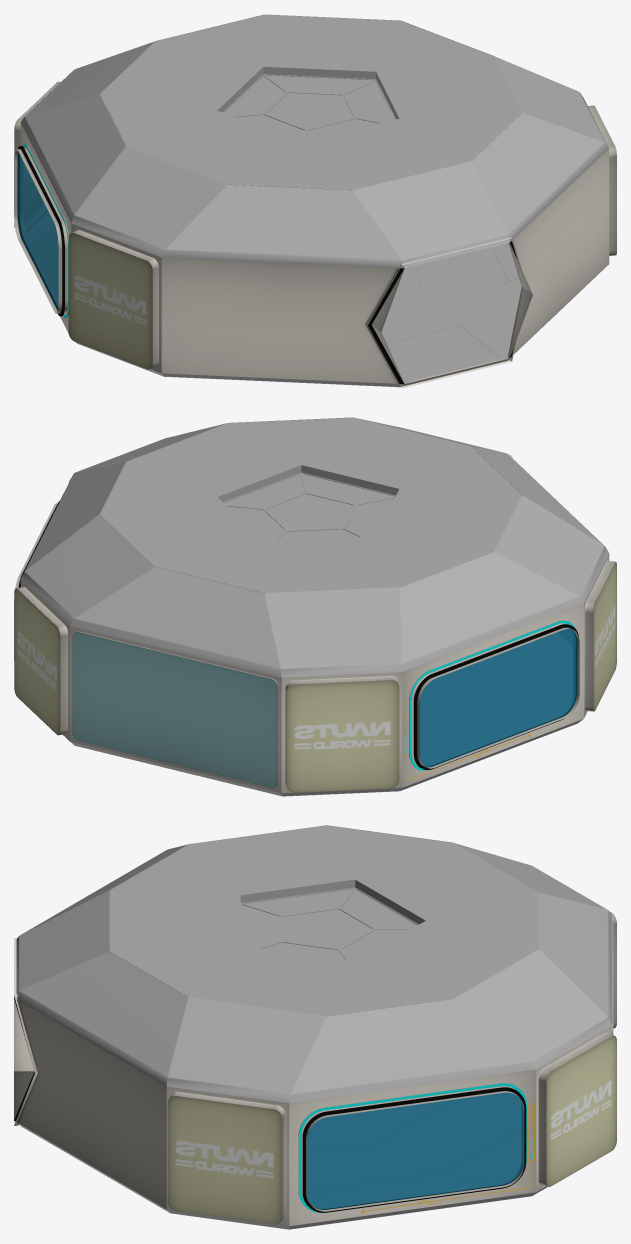
The model's file is Lab_Center_Hall 1.fbx.
3 views of the same model, one above another, from view 1: azimuth 30°, elevation 25°; view 2: azimuth 150°, elevation 25°; view 3: azimuth 270°, elevation 25° (orthographic). The views are drawn at different scales.
Parts seen in each view (by area): view 1: Roof, Wall, Floor; view 2: Roof, Wall, Floor; view 3: Roof, Wall, Floor.
Part boxes in pixels (left/top/right/bottom): Roof: left=20, top=14, right=608, bottom=268; Wall: left=14, top=81, right=616, bottom=388; Floor: left=26, top=212, right=521, bottom=387; Roof: left=21, top=417, right=608, bottom=677; Wall: left=14, top=454, right=616, bottom=793; Floor: left=71, top=629, right=582, bottom=796; Roof: left=14, top=825, right=611, bottom=1103; Wall: left=14, top=911, right=616, bottom=1226; Floor: left=15, top=1093, right=547, bottom=1229.
Size of the model in its own units: 2032 by 626 by 1903.
